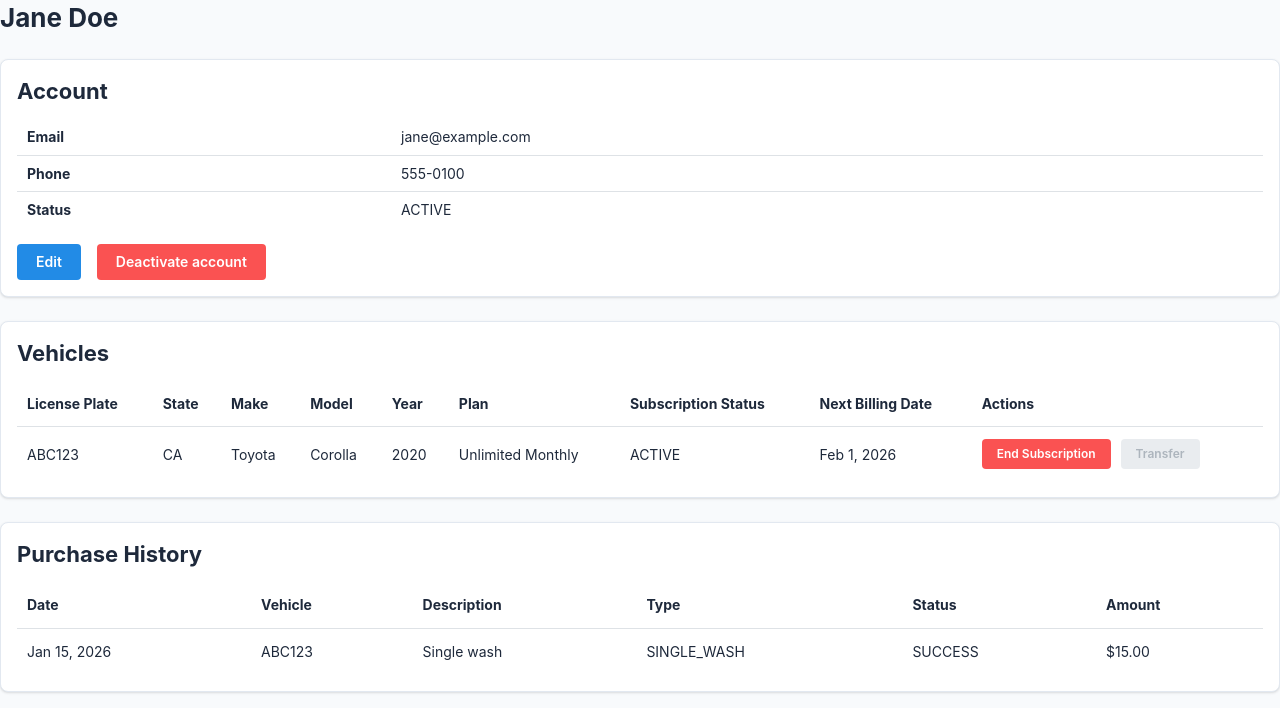
Test: UserProperties › editing account information › disables Save until a field has actually changed
The width and height of the screenshot is (1280, 708).
Check: the heading "Jane Doe" is shown, box [0,2,118,33]
Step 1. Click the button "Edit" → {"x": 49, "y": 262}, box [17,244,81,280]
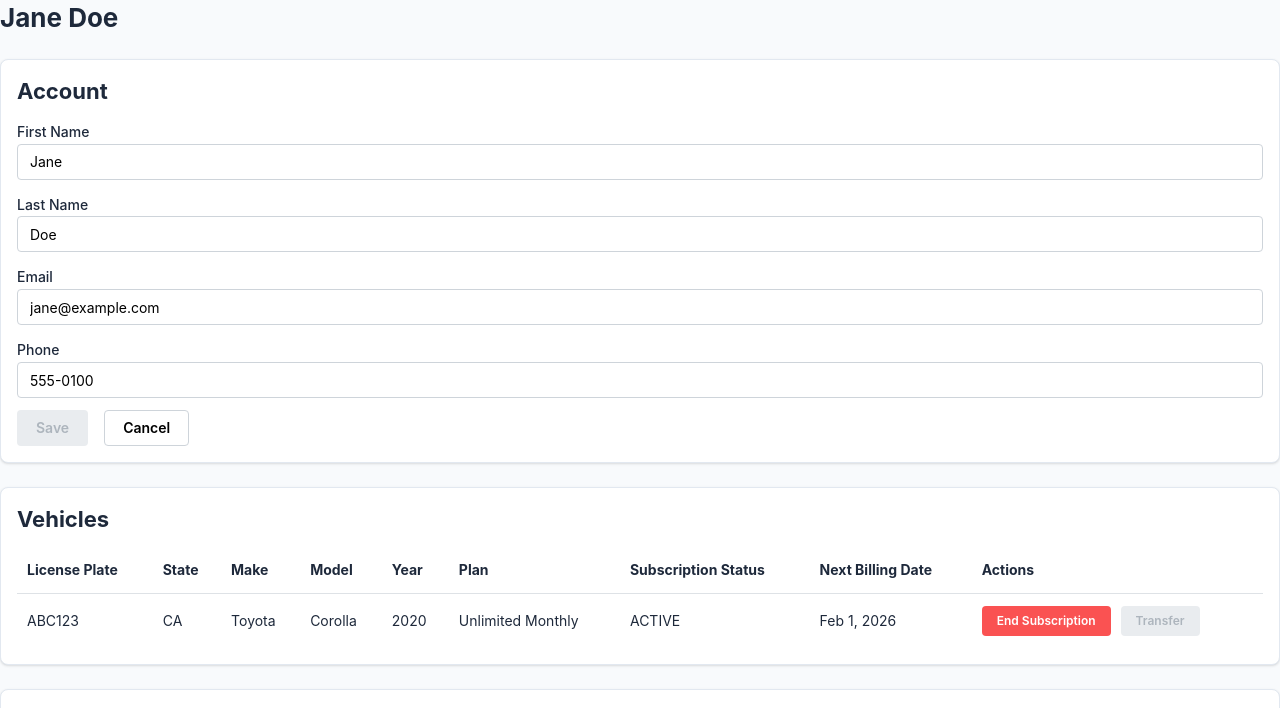
Check: the button "Save" is disabled, box [17,410,88,446]
Step 2. Type "x" into the field labelled "First Name" → {"x": 640, "y": 162}, box [17,144,1263,180]
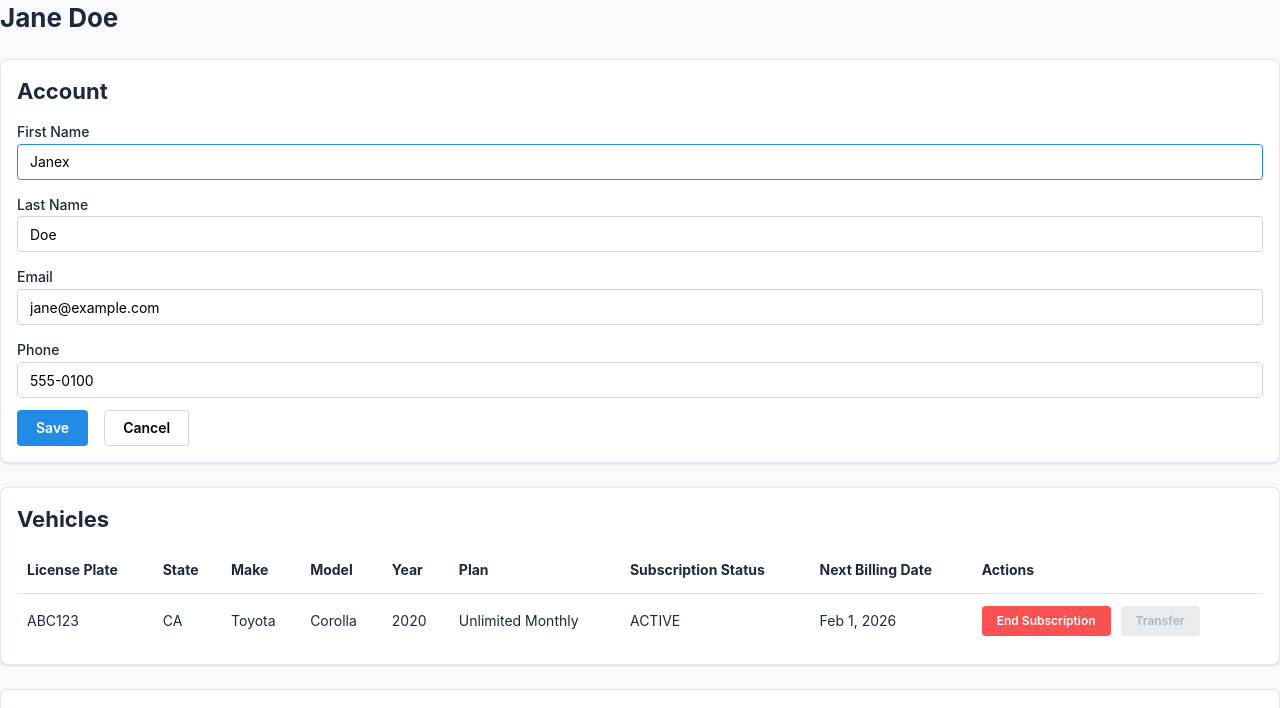
Check: the button "Save" is enabled, box [17,410,88,446]
